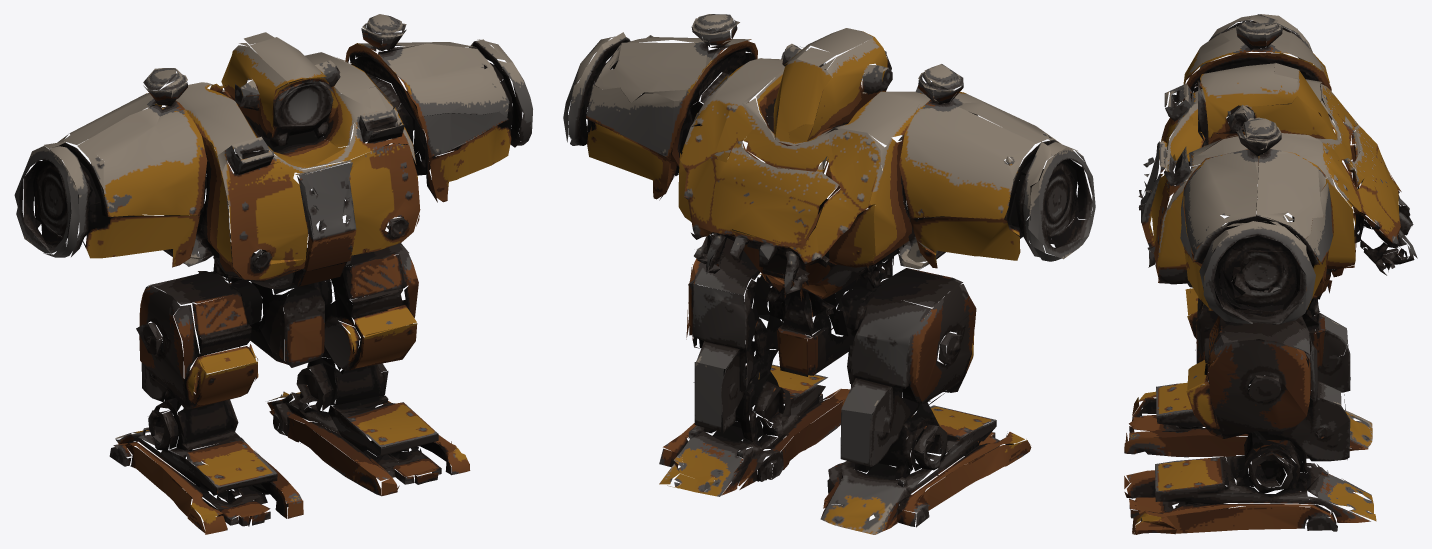
File: ch_brute.glb
3 renders of one model, left to right at view 1: azimuth 30°, elevation 25°; view 2: azimuth 150°, elevation 25°; view 3: azimuth 270°, elevation 25°, orthographic. The views are drawn at different scales.
Parts seen in each view (by area): view 1: ch_brute, limb_leg_l, limb_leg_r; view 2: ch_brute, limb_leg_l, limb_leg_r; view 3: ch_brute, limb_leg_r, limb_leg_l.
Boxes of the visible parts, <box> form: ch_brute: <box>14,14,532,367</box>; limb_leg_l: <box>109,305,303,534</box>; limb_leg_r: <box>267,285,470,496</box>; ch_brute: <box>563,14,1095,376</box>; limb_leg_l: <box>820,282,1031,534</box>; limb_leg_r: <box>659,273,850,496</box>; ch_brute: <box>1138,14,1417,370</box>; limb_leg_r: <box>1124,323,1376,534</box>; limb_leg_l: <box>1124,288,1372,458</box>.
Bounding box in the file's own units: 0.7396 × 0.61 × 0.4012.
1 material, 1 textured.
